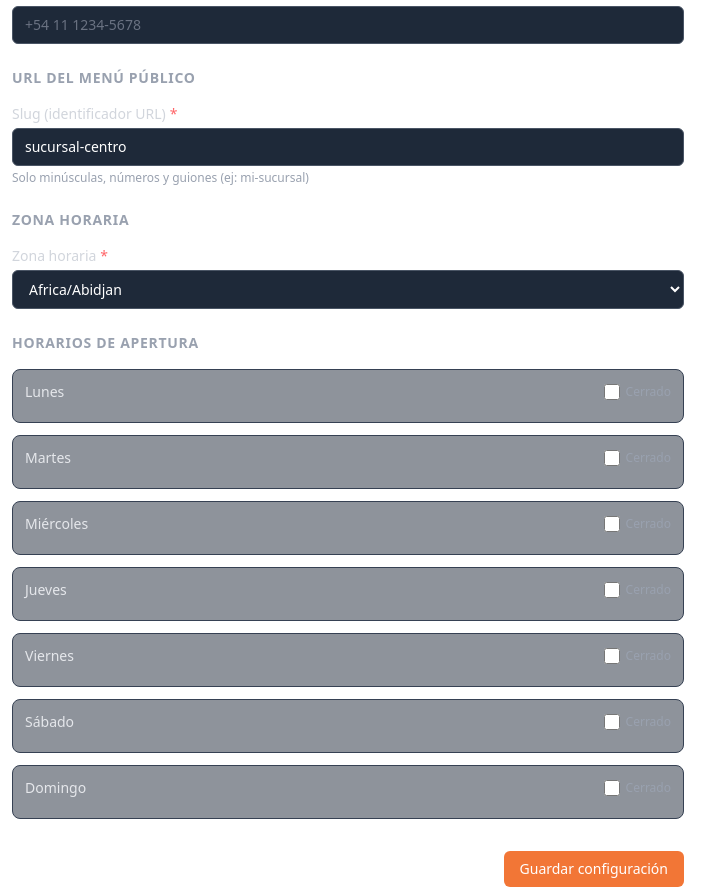
it: BranchSettingsForm › shows inline slug error on 409 conflict
(page scrolled)
Click the button "Guardar configuración" at (594, 869), box [504,851,684,886]
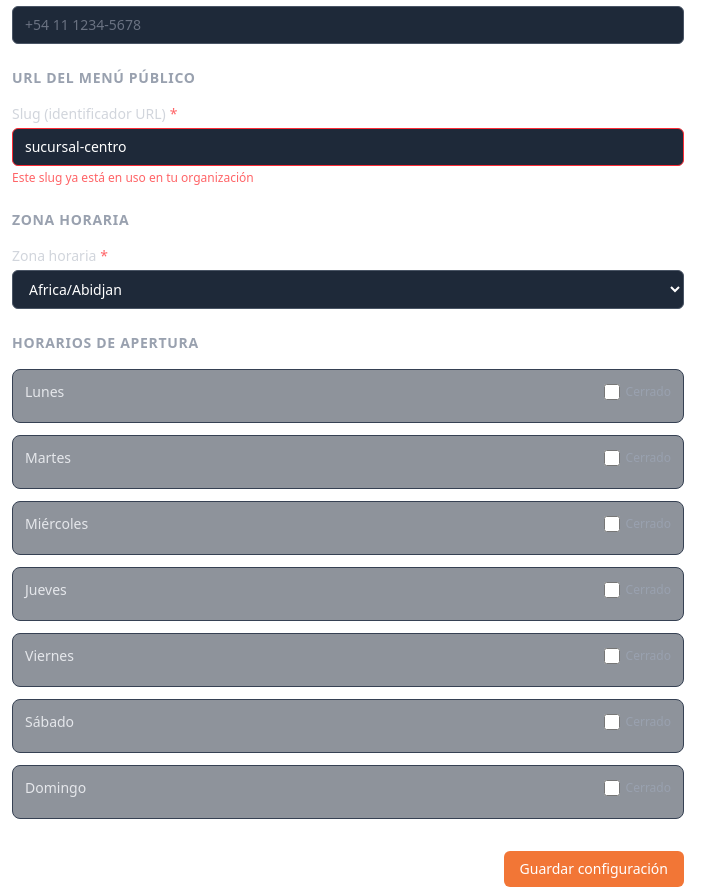
Expected: the text "Este slug ya está en uso en tu organización" is shown, [12,169,254,186]
